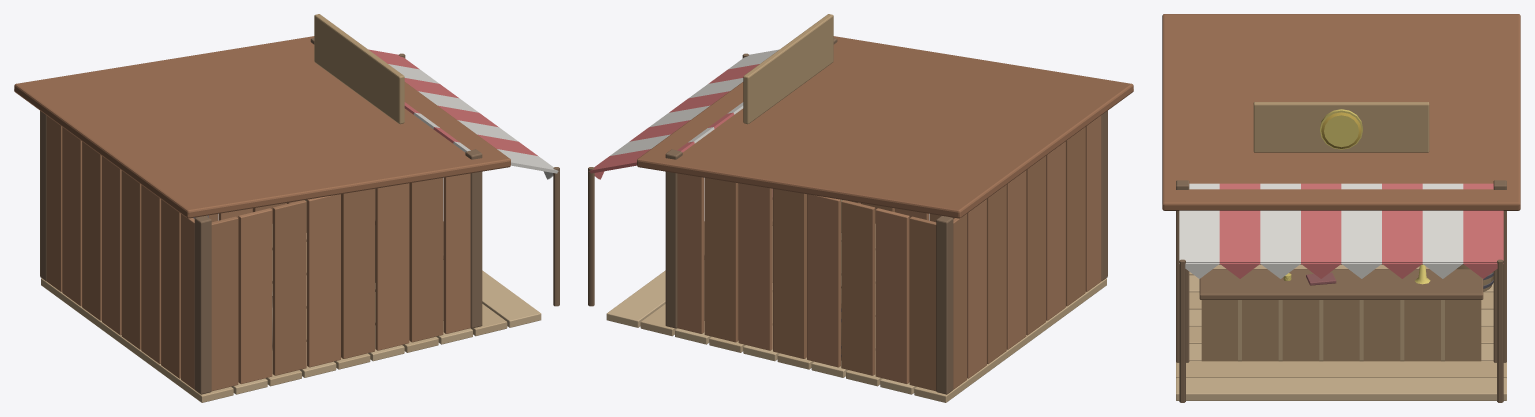
The model's file is stall.glb.
3 views of the same model, side by side, from view 1: azimuth 30°, elevation 25°; view 2: azimuth 150°, elevation 25°; view 3: azimuth 270°, elevation 25° (orthographic). The views are drawn at different scales.
Parts seen in each view (by area): view 1: stall; view 2: stall; view 3: stall.
Boxes of the visible parts, x1,y1,x2,y2 form: stall: (14,14,559,402); stall: (588,14,1133,402); stall: (1162,14,1520,402).
Size of the model in its own units: 6.69 by 4.04 by 5.3.
